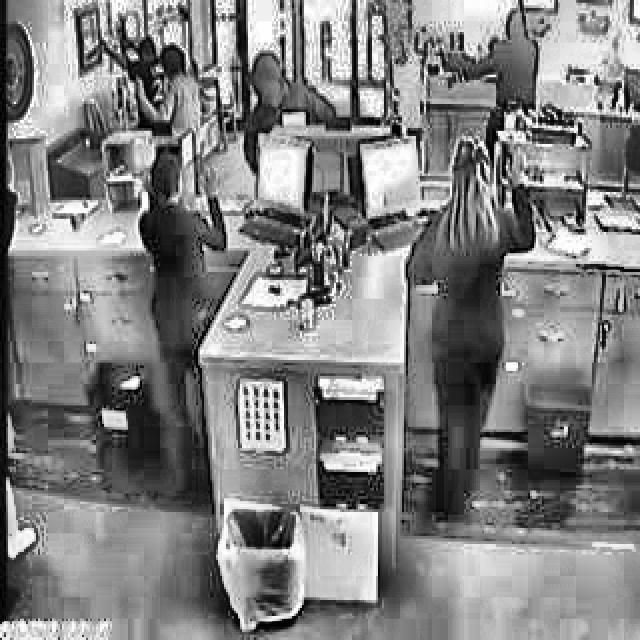Weapon: (395, 136, 640, 546), (131, 106, 244, 496), (435, 4, 622, 157), (106, 7, 246, 156), (235, 30, 351, 140)
